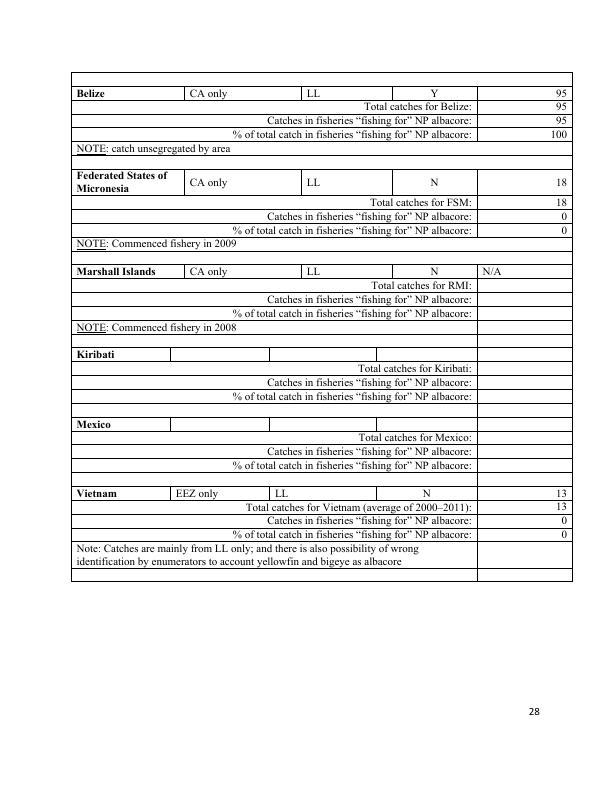table: (67, 68, 576, 586)
